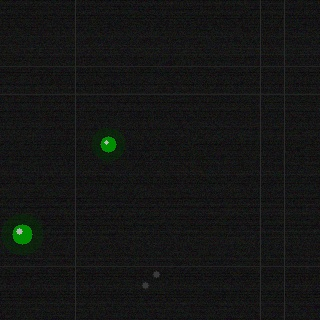green_normal: (10, 222, 34, 246), (98, 134, 118, 154)
